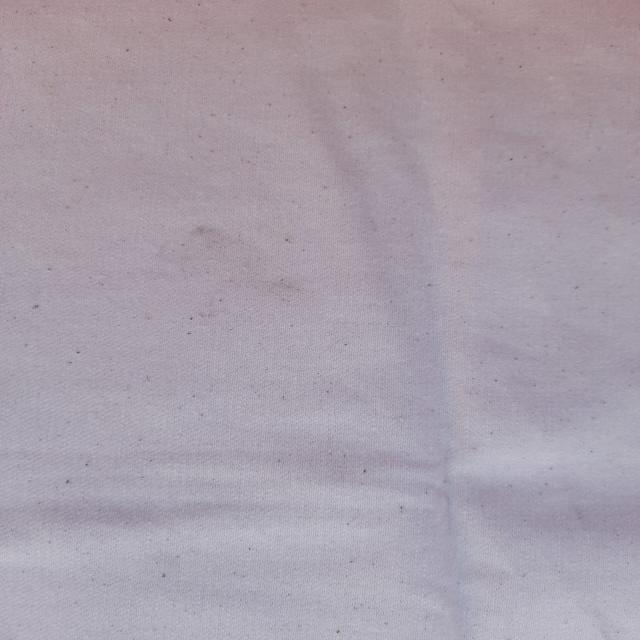taaaches: (184, 218, 233, 264), (265, 273, 304, 301)
